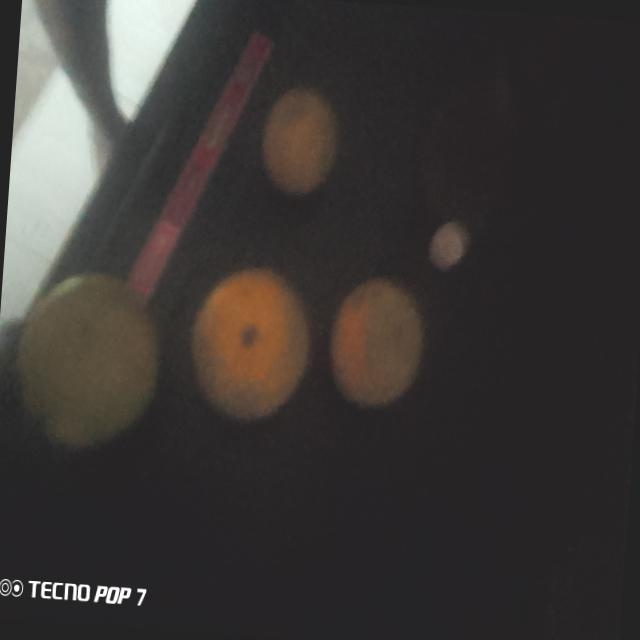agrume: (12, 276, 160, 441), (192, 261, 312, 423), (329, 269, 426, 408), (251, 85, 345, 191)
